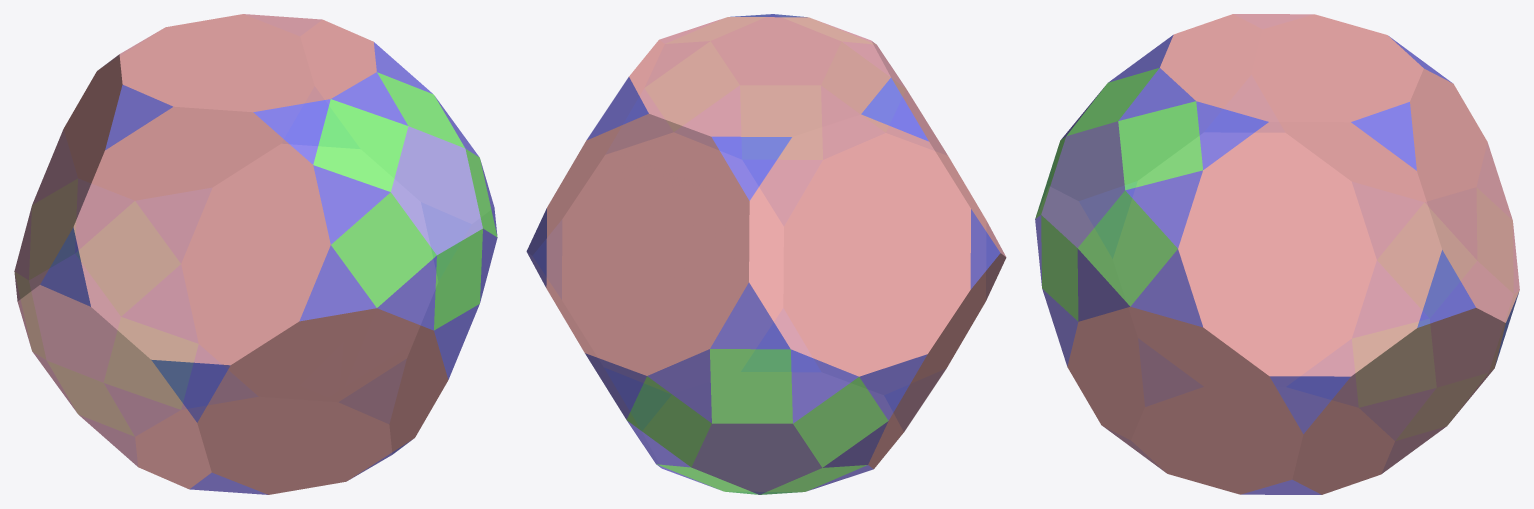
The model's file is j69_parabiaugmented_truncated_dodecahedron.obj.
3 views of the same model, side by side, from view 1: azimuth 30°, elevation 25°; view 2: azimuth 150°, elevation 25°; view 3: azimuth 270°, elevation 25° (orthographic).
Size of the model in its own units: 1.98 by 1.73 by 1.96.
